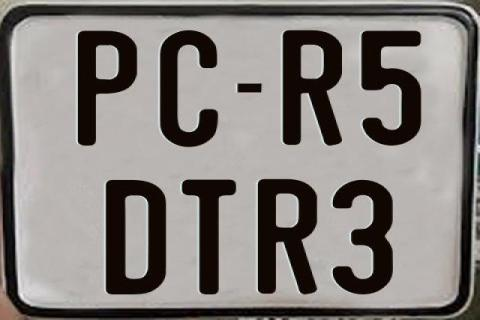0: (330, 180, 396, 294), (360, 28, 422, 147)
C: (157, 30, 215, 150)
D: (105, 177, 168, 293)
P: (75, 30, 134, 148)
R: (281, 29, 341, 145), (258, 180, 318, 296)
T: (182, 178, 240, 296)
